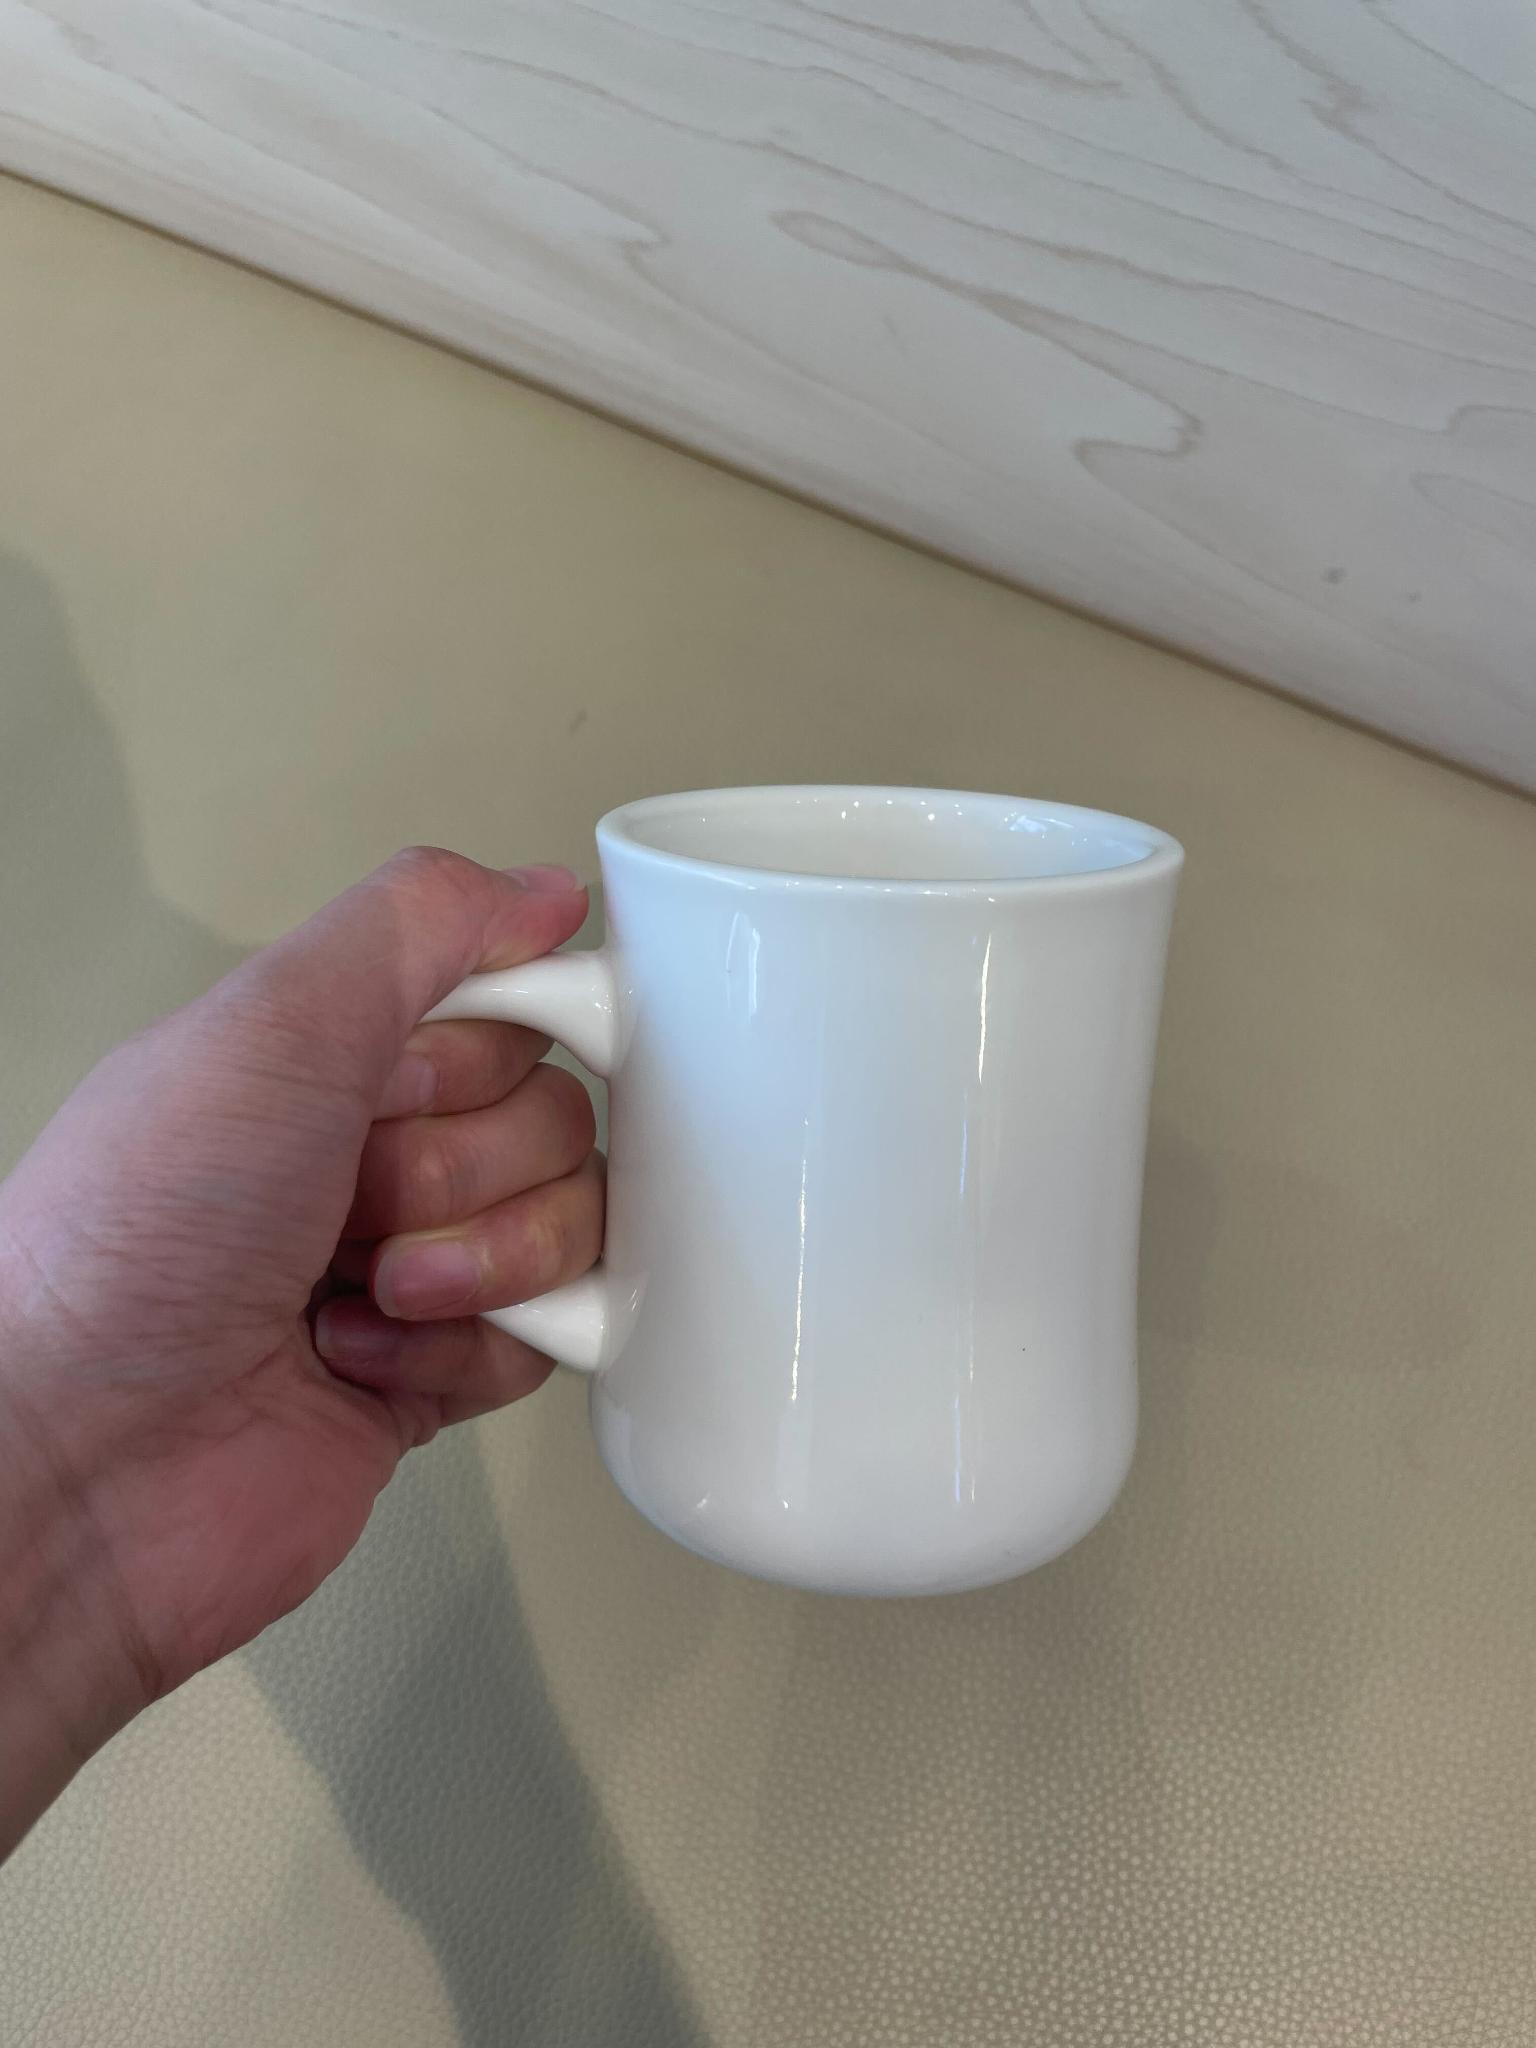cup: (0, 770, 1216, 1778)
